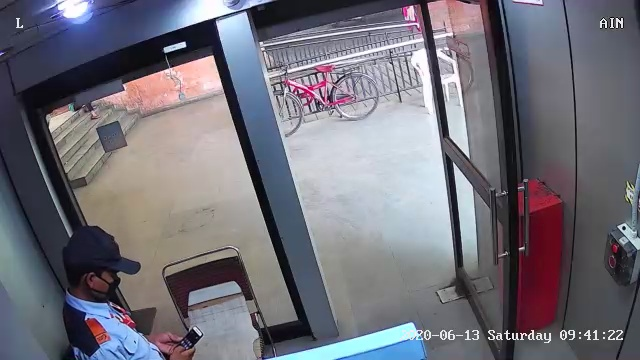open: (207, 2, 577, 360)
